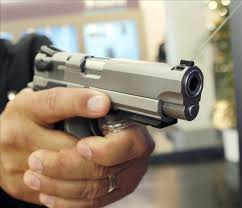Arma Real: (30, 44, 228, 143)
